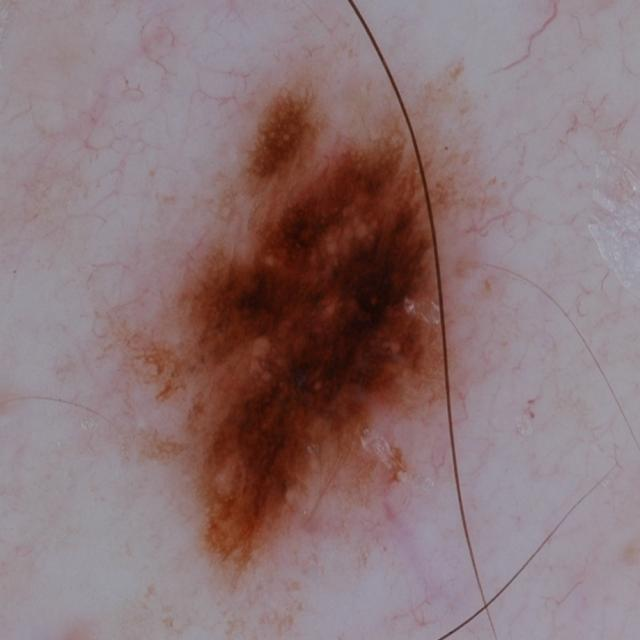Skin-Cancer Nevus: (83, 36, 562, 618)
